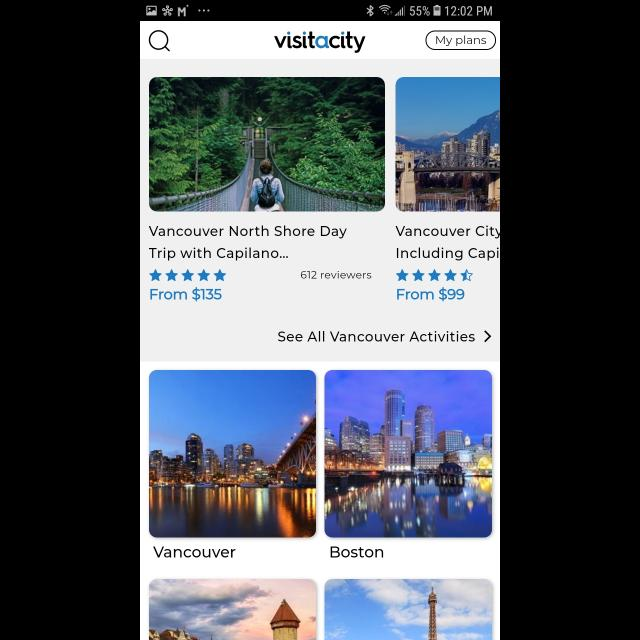icon: (150, 270, 227, 282), (396, 270, 472, 282), (149, 31, 171, 53), (484, 331, 492, 343)
image: (150, 78, 386, 212), (324, 370, 492, 538), (150, 370, 316, 538), (396, 78, 500, 212), (324, 578, 492, 640), (150, 578, 316, 640), (274, 31, 366, 53)
text: (149, 225, 347, 261), (396, 226, 500, 262), (278, 331, 474, 342), (150, 286, 222, 302), (397, 286, 465, 302), (154, 546, 236, 558), (300, 270, 372, 280), (331, 546, 384, 558)
textbutton: (426, 30, 496, 50)
uppertaskbar: (140, 1, 500, 22)
